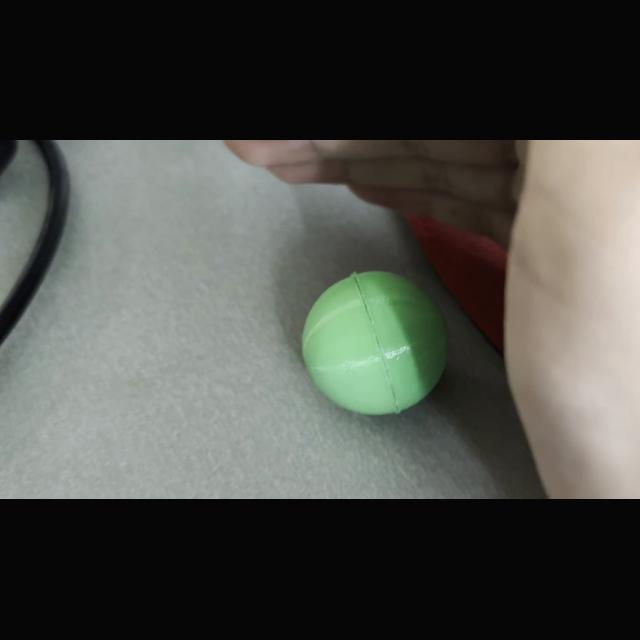objects: (294, 264, 456, 424)
